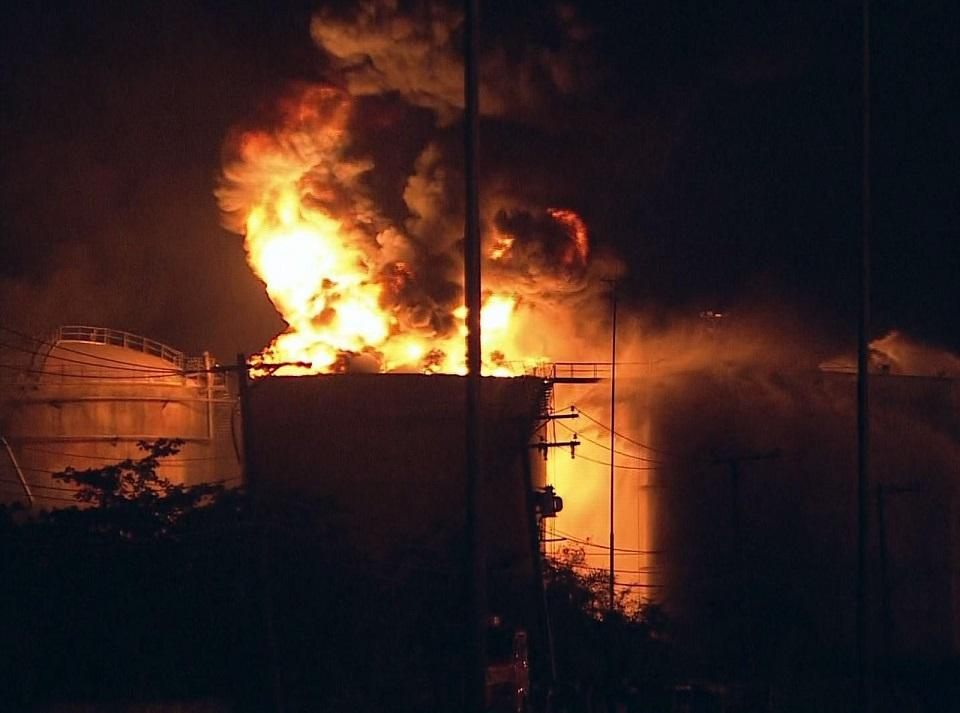fire: (238, 191, 496, 384)
